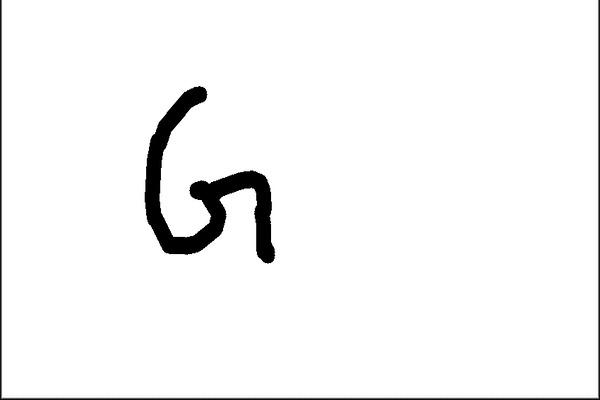G: (137, 81, 281, 269)
